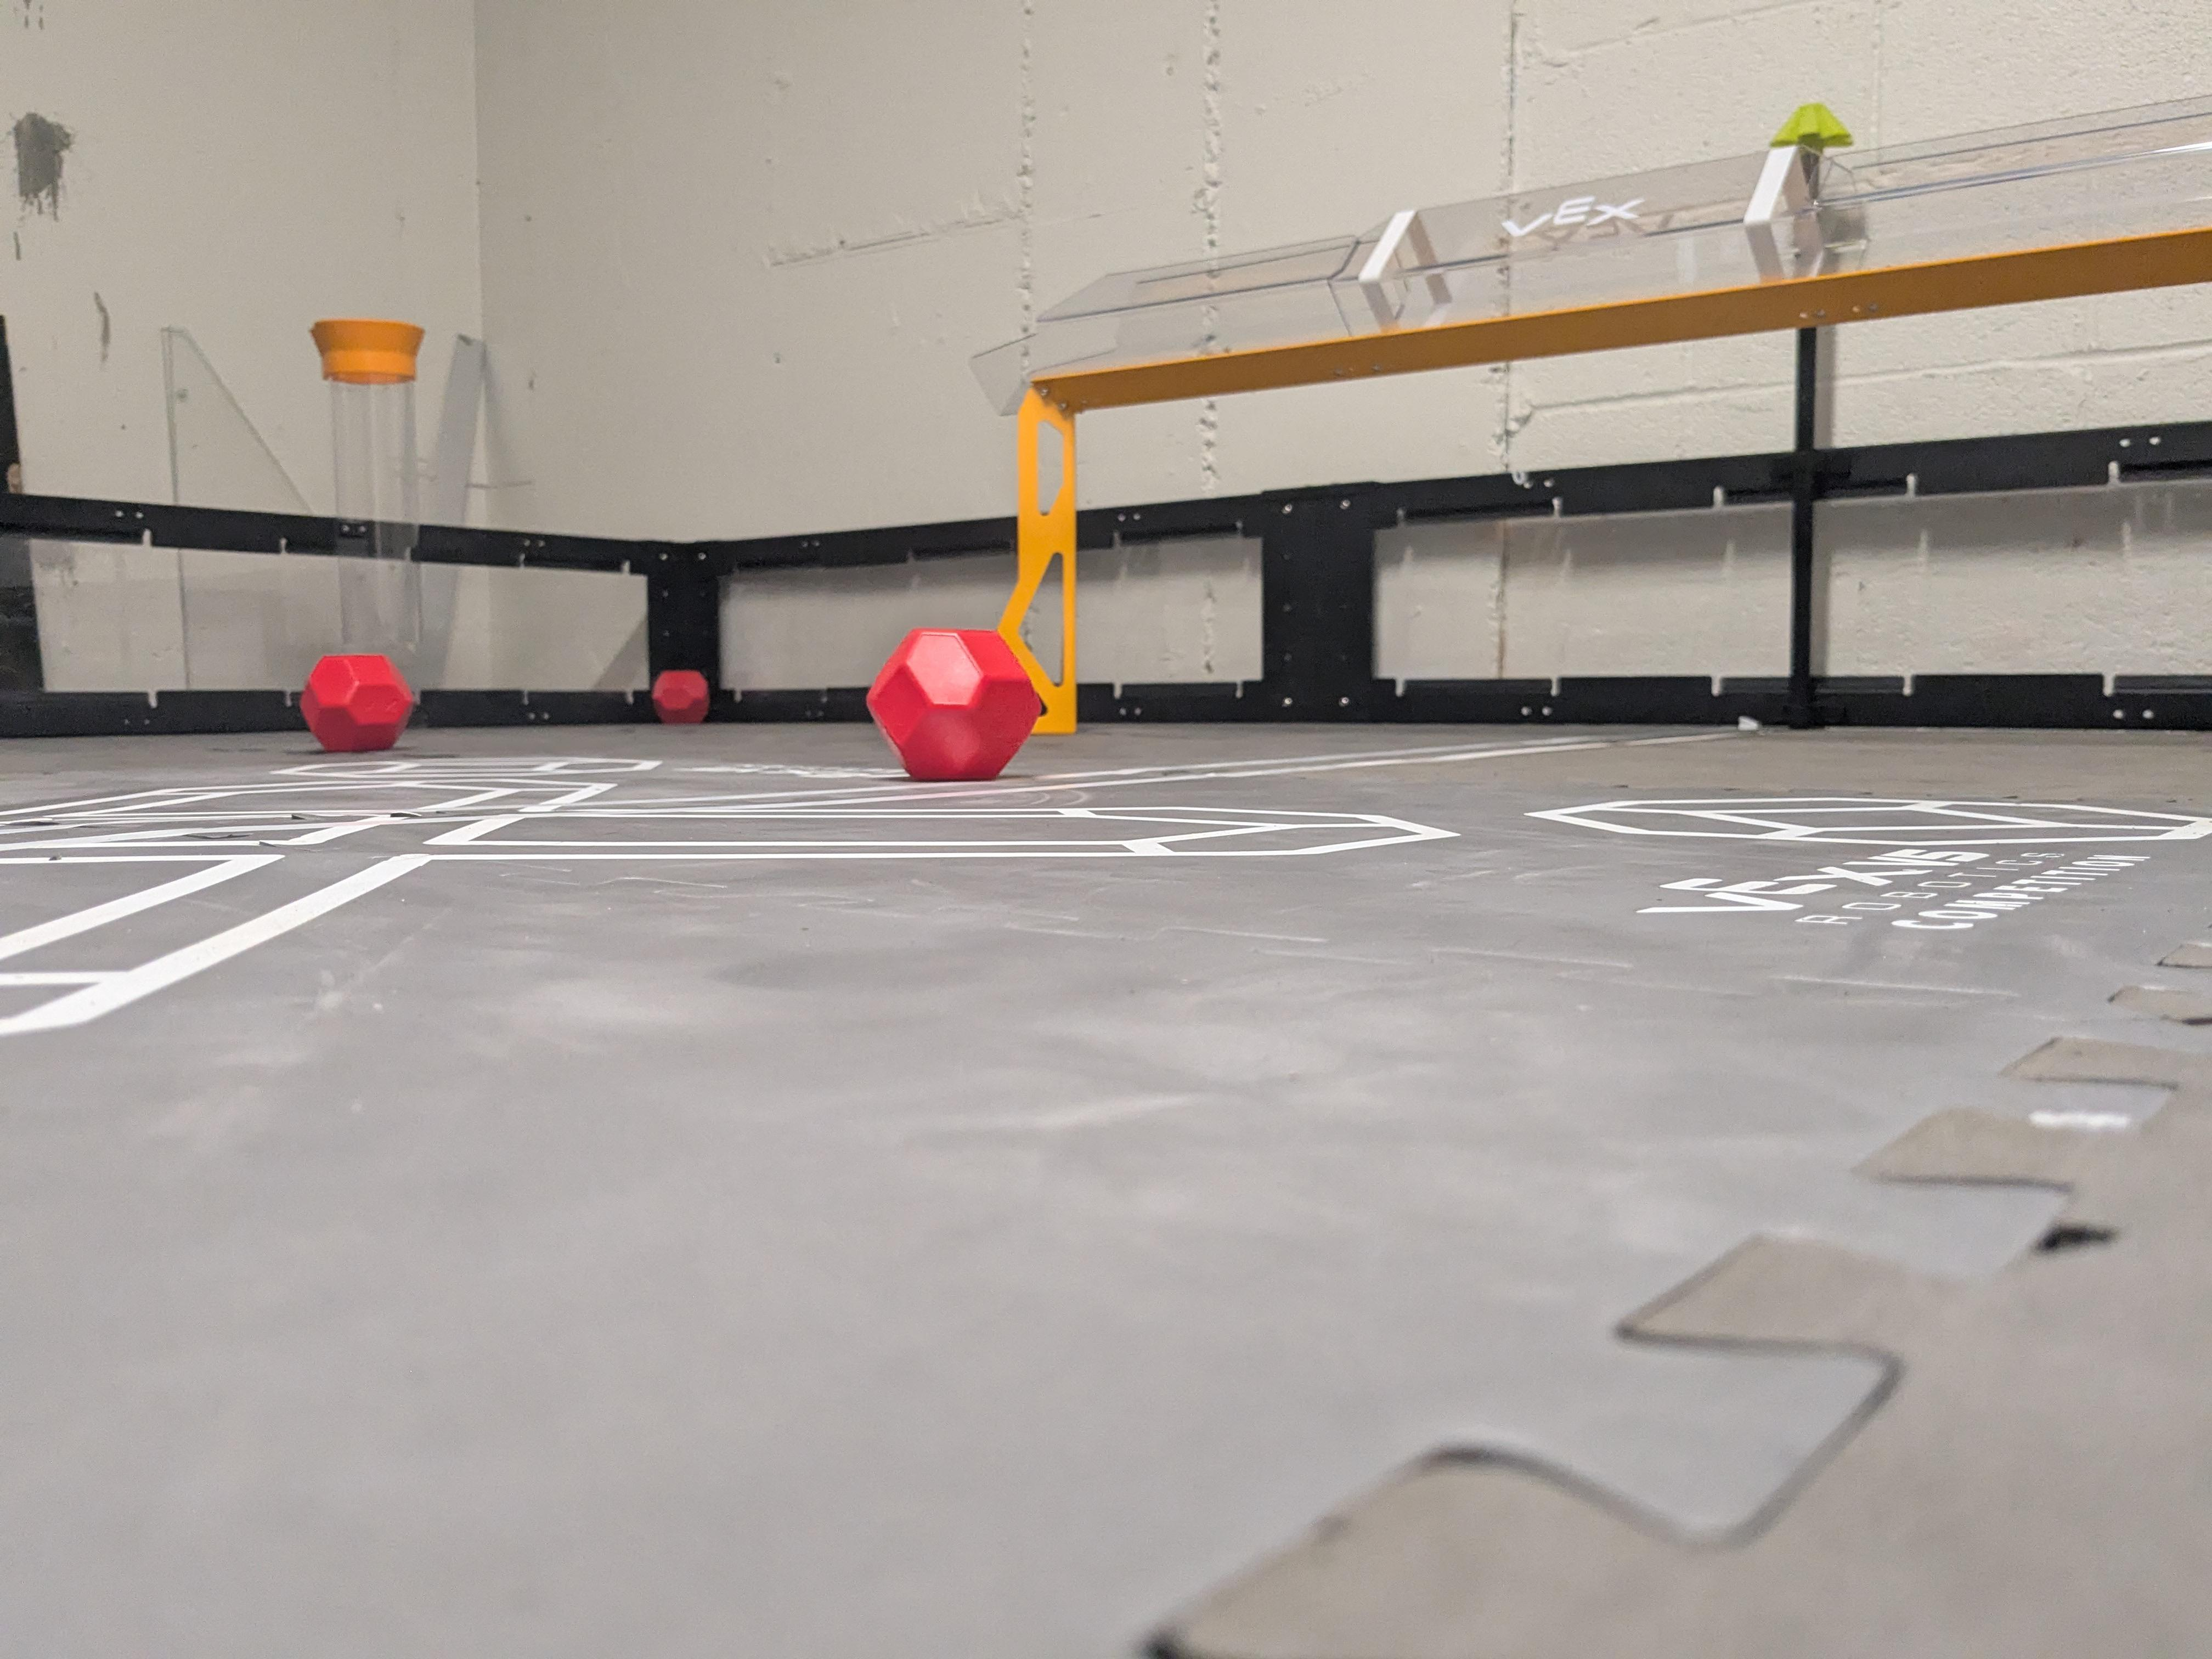Vex-Pieces-RED: (864, 629, 1036, 774), (300, 653, 415, 751), (651, 671, 709, 723)
